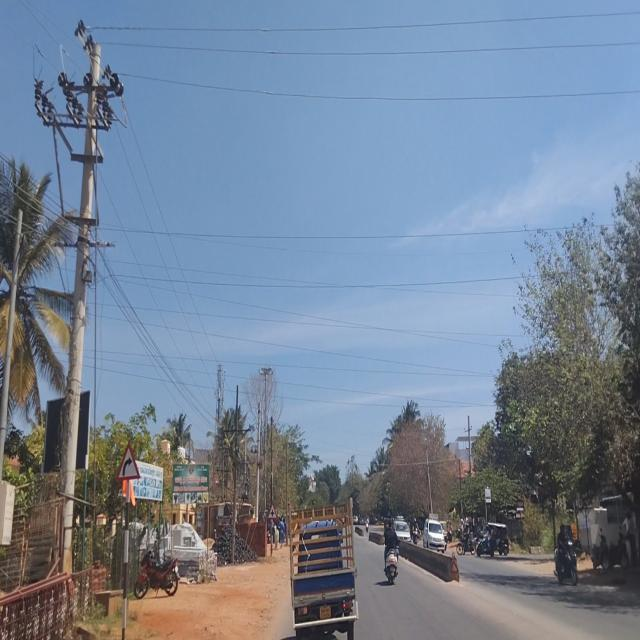bien_cam: (116, 439, 139, 482), (266, 498, 278, 522)
